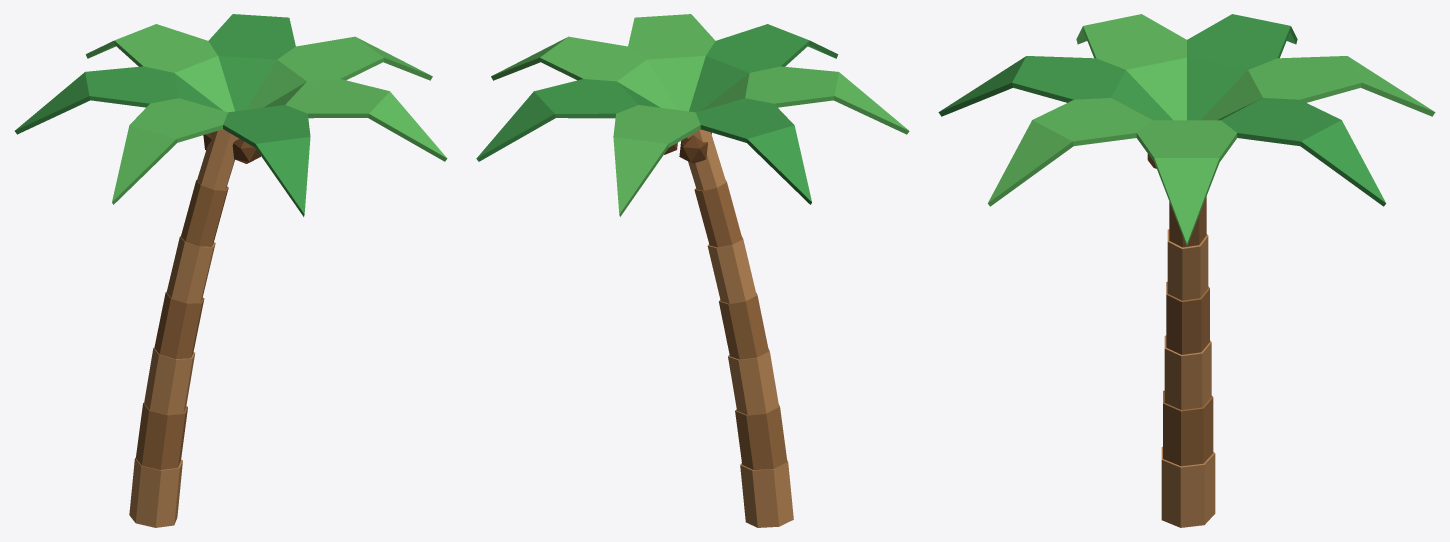
The model's file is palmier.glb.
3 renders of one model, left to right at view 1: azimuth 30°, elevation 25°; view 2: azimuth 150°, elevation 25°; view 3: azimuth 270°, elevation 25°, orthographic. The views are drawn at different scales.
Visible parts, largest first — view 1: palme.001, palme.004, palme.003, palme.005, palme, palme.002, palme.006, Cylinder, Cylinder.001, Cylinder.002, Cylinder.003, Cylinder.004 (+2 smaller); view 2: palme.006, palme.003, palme.004, palme.001, palme.002, palme, palme.005, Cylinder, Cylinder.001, Cylinder.002, Cylinder.003, Cylinder.004 (+3 smaller); view 3: palme.002, palme.005, palme, palme.003, palme.004, palme.001, palme.006, Cylinder, Cylinder.001, Cylinder.002, Cylinder.003, Cylinder.004 (+1 smaller).
Boxes of the visible parts, <box> form: palme.001: <box>208,14,295,111</box>; palme.004: <box>112,98,227,204</box>; palme.003: <box>15,66,222,134</box>; palme.005: <box>223,105,310,216</box>; palme: <box>246,36,432,109</box>; palme.002: <box>86,24,234,112</box>; palme.006: <box>263,79,447,161</box>; Cylinder: <box>129,457,182,527</box>; Cylinder.001: <box>136,403,187,469</box>; Cylinder.002: <box>144,347,195,414</box>; Cylinder.003: <box>154,292,204,358</box>; Cylinder.004: <box>166,236,215,302</box>; palme.006: <box>628,14,715,111</box>; palme.003: <box>696,98,811,204</box>; palme.004: <box>701,66,909,134</box>; palme.001: <box>476,79,660,161</box>; palme.002: <box>613,105,700,216</box>; palme: <box>491,36,677,109</box>; palme.005: <box>689,24,838,112</box>; Cylinder: <box>740,460,793,527</box>; Cylinder.001: <box>735,404,787,469</box>; Cylinder.002: <box>728,348,778,414</box>; Cylinder.003: <box>719,292,768,359</box>; Cylinder.004: <box>707,236,756,303</box>; palme.002: <box>1201,56,1435,120</box>; palme.005: <box>938,56,1172,120</box>; palme: <box>1136,120,1237,245</box>; palme.003: <box>1187,14,1297,120</box>; palme.004: <box>1076,14,1186,120</box>; palme.001: <box>1217,98,1385,206</box>; palme.006: <box>988,98,1156,206</box>; Cylinder: <box>1161,446,1215,527</box>; Cylinder.001: <box>1163,390,1213,466</box>; Cylinder.002: <box>1164,335,1211,409</box>; Cylinder.003: <box>1166,281,1209,354</box>; Cylinder.004: <box>1167,229,1208,300</box>.
Bounding box in the file's own units: 3.44 × 3.74 × 3.53.
